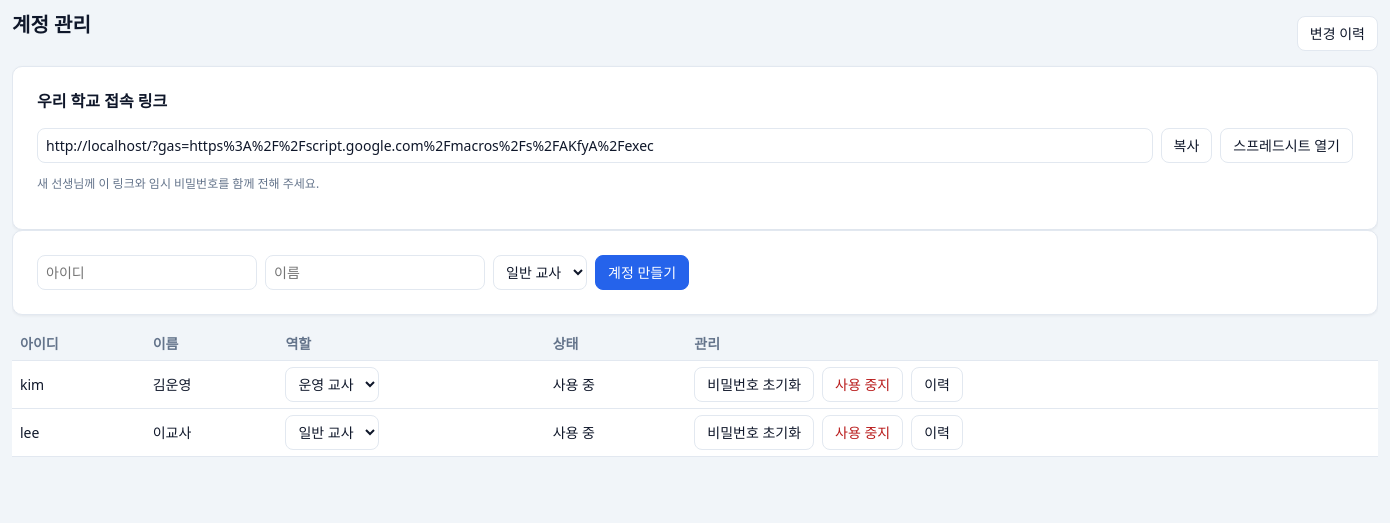
it: UsersPage › shows the server message when the last admin would be removed
Expected: the cell "kim" is shown, [12, 360, 145, 408]
Click the button "사용 중지" in the row of "kim" at (863, 384), box [822, 367, 903, 402]
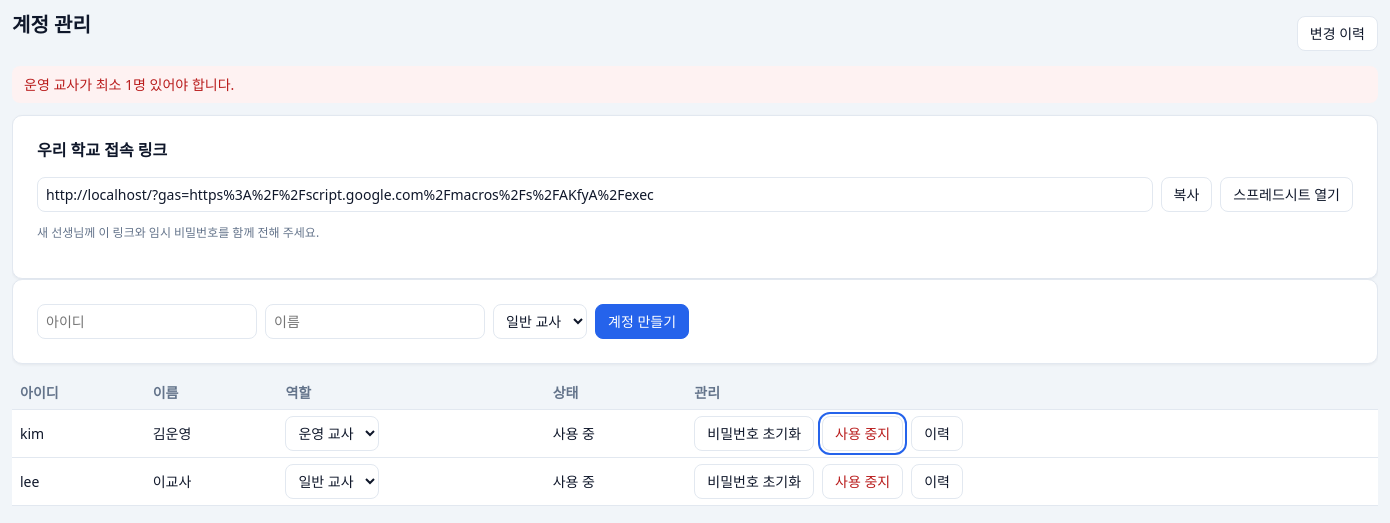
Expected: the message reads "운영 교사가 최소 1명 있어야 합니다.", [24, 75, 234, 94]
